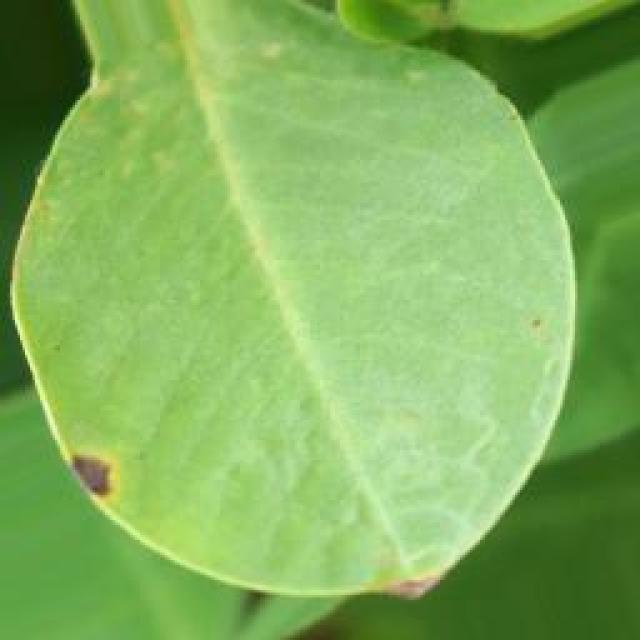Sigatoka: (38, 393, 163, 516), (285, 520, 441, 600), (532, 297, 594, 382)
